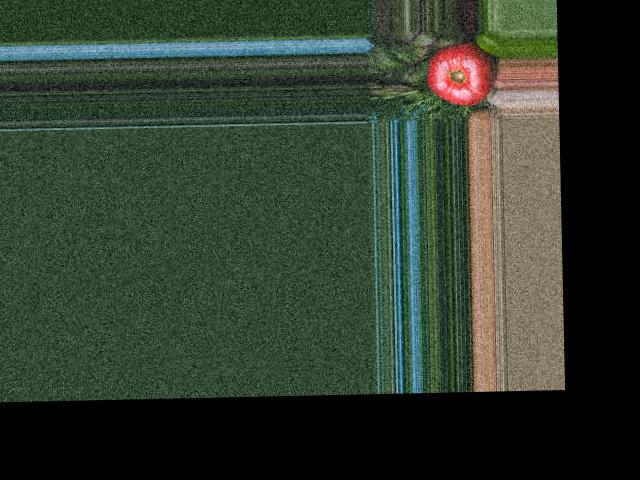tomato: (427, 40, 497, 106)
